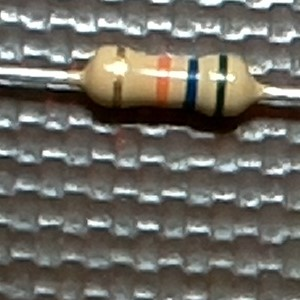black_band: (209, 52, 230, 121)
blue_band: (181, 55, 201, 112)
gold_band: (109, 43, 127, 110)
orange_band: (154, 52, 173, 112)
